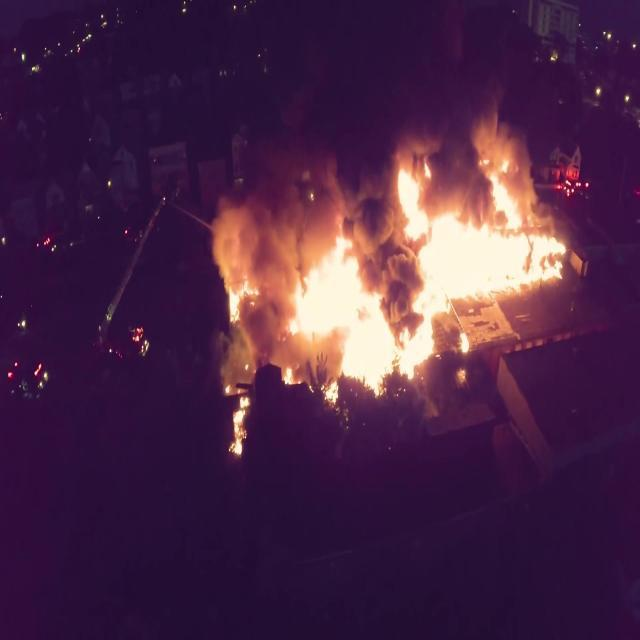Fire: (308, 203, 562, 381), (228, 280, 254, 316)
Smoke: (228, 6, 546, 198), (204, 210, 298, 366), (346, 172, 420, 336)
